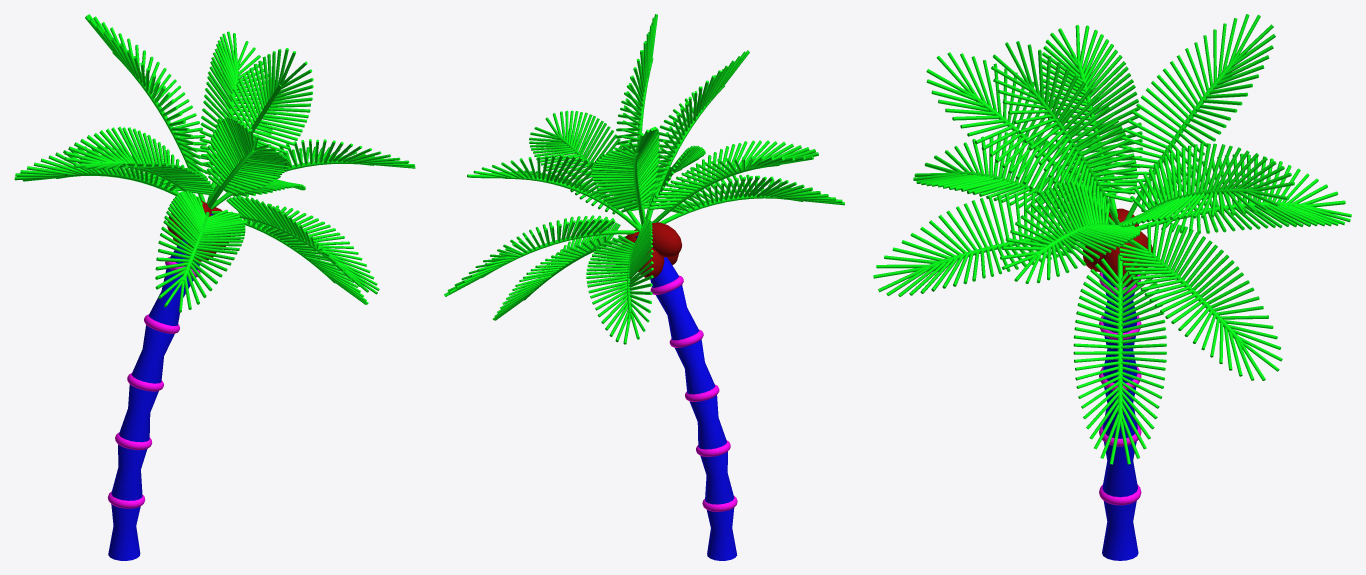
Rendered from SM_Palmtree45.FBX.
3 views of the same model, side by side, from view 1: azimuth 30°, elevation 25°; view 2: azimuth 150°, elevation 25°; view 3: azimuth 270°, elevation 25° (orthographic). The views are drawn at different scales.
Visible parts, largest first — view 1: Cylinder009; view 2: Cylinder009; view 3: Cylinder009.
Part boxes in pixels (x1,y1,x2,y2): Cylinder009: (14, 14, 415, 560); Cylinder009: (444, 14, 844, 560); Cylinder009: (873, 14, 1351, 560).
Size of the model in its own units: 45.71 by 68.78 by 51.73.
